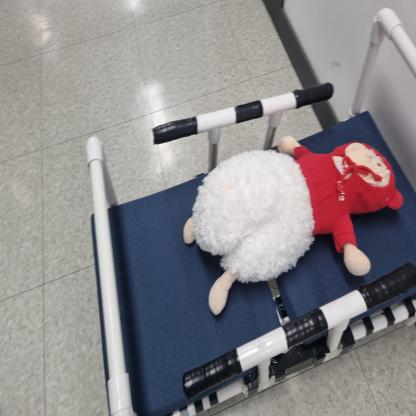yp: (70, 118, 416, 358)
